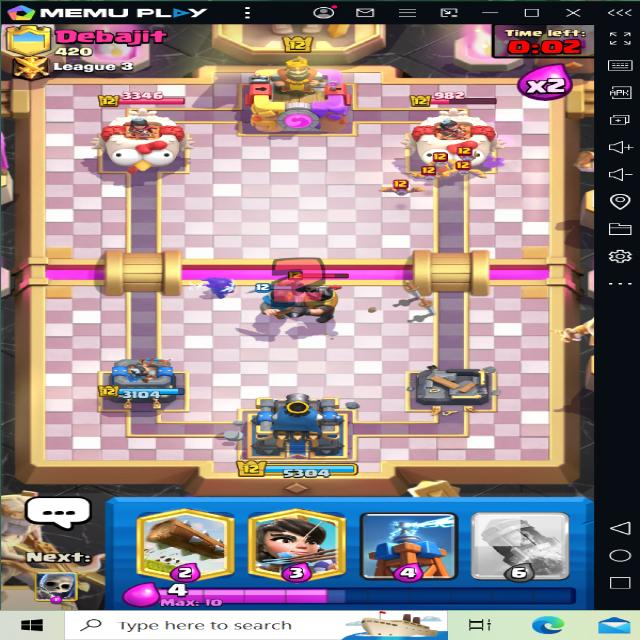bats: (447, 163, 482, 187), (374, 176, 414, 196), (425, 152, 456, 176), (410, 169, 444, 188), (452, 146, 478, 163)
mega-knight: (275, 263, 350, 318)
